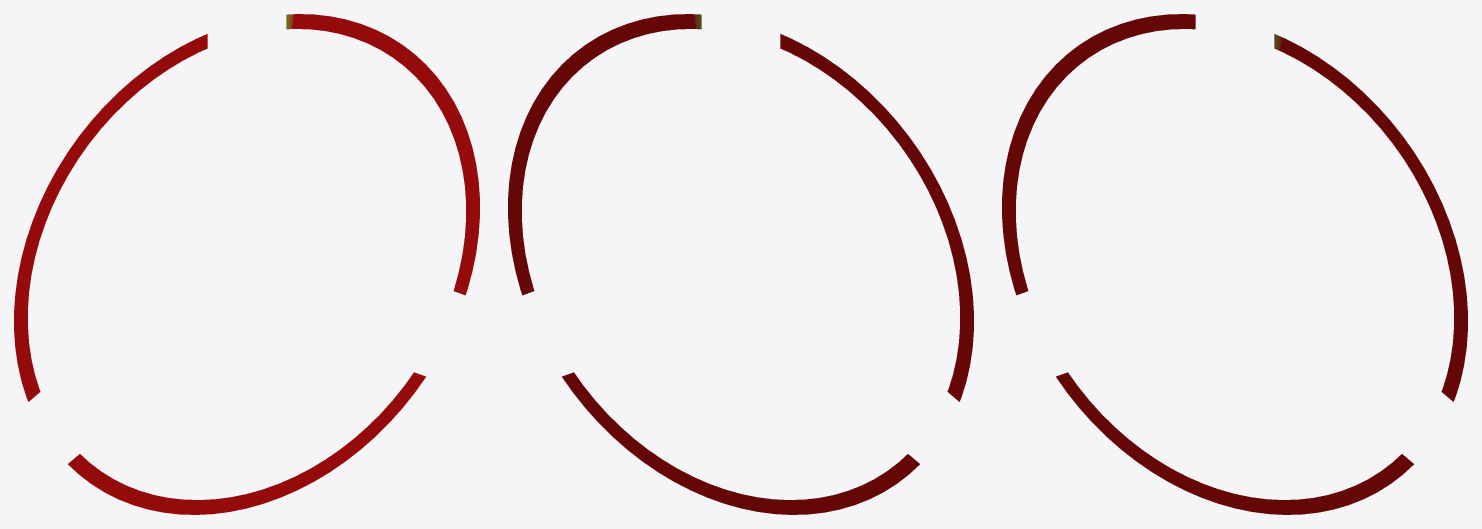
Rendered from bey_shieldEnergyBar.FBX.
3 views of the same model, side by side, from view 1: azimuth 30°, elevation 25°; view 2: azimuth 150°, elevation 25°; view 3: azimuth 330°, elevation 25° (orthographic).
Parts seen in each view (by area): view 1: shieldEnergy; view 2: shieldEnergy; view 3: shieldEnergy.
Part boxes in pixels (box(x1,y1,x2,y2)): shieldEnergy: box(14, 14, 479, 514); shieldEnergy: box(508, 14, 973, 514); shieldEnergy: box(1002, 14, 1467, 514).
Bounding box in the file's own units: 271 × 269 × 1.14e-05.
